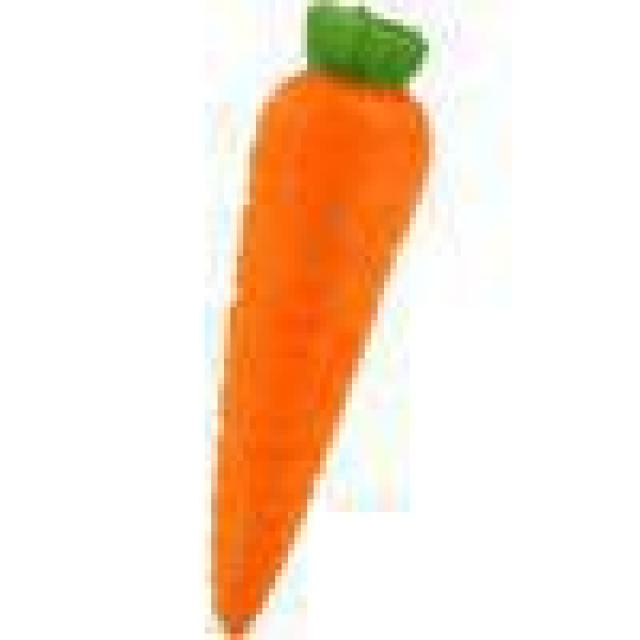Fresh_Carrot: (250, 22, 423, 640)
